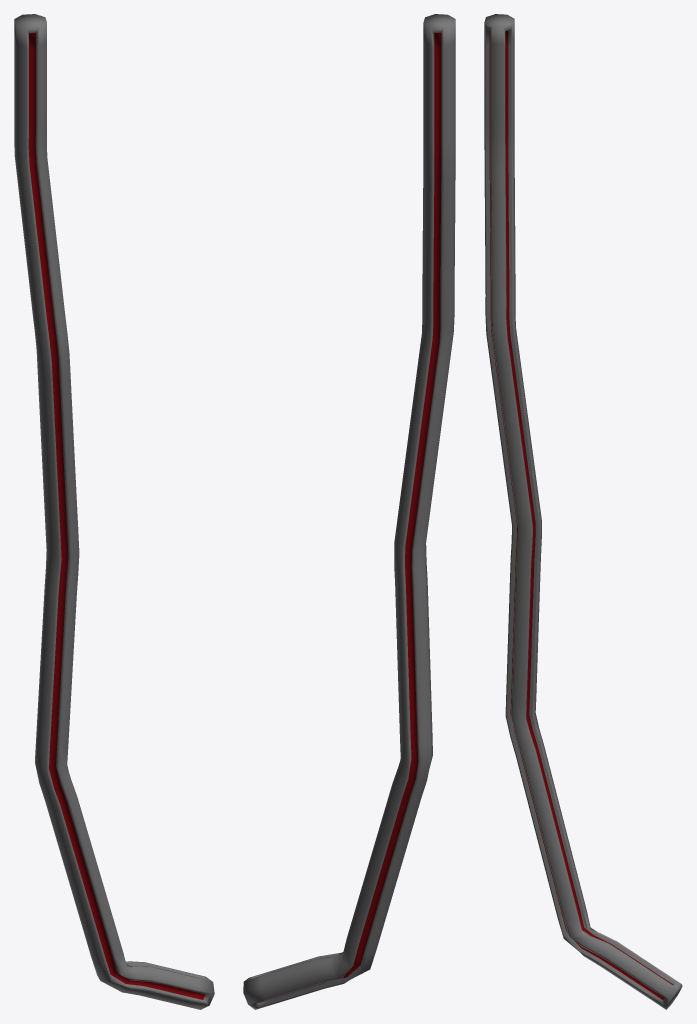
Rendered from HeartTube1.glb.
3 views of the same model, side by side, from view 1: azimuth 30°, elevation 25°; view 2: azimuth 150°, elevation 25°; view 3: azimuth 330°, elevation 25° (orthographic). The views are drawn at different scales.
Parts seen in each view (by area): view 1: Cylinder.005; view 2: Cylinder.005; view 3: Cylinder.005.
Part boxes in pixels (left/top/right/bottom): Cylinder.005: left=14, top=14, right=214, bottom=1009; Cylinder.005: left=243, top=14, right=455, bottom=1009; Cylinder.005: left=484, top=14, right=682, bottom=1009.
Bounding box in the file's own units: 2.89 × 14.13 × 0.8724.
